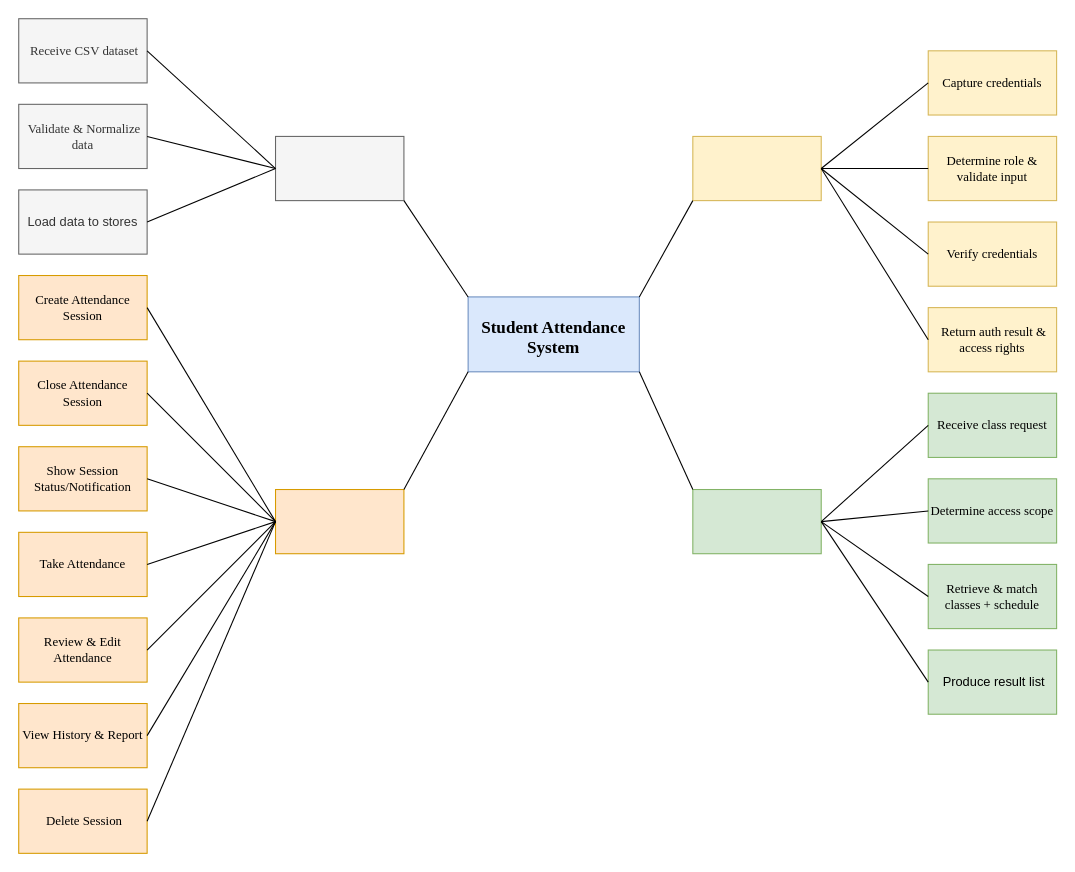
The diagram is 1075 pixels wide and 872 high, and some of its shapes have lost their labels. Each missing label, with the centre of its shape:
"Authenticate User" belongs at point 756,168.
"Import & Validate Initial Data" belongs at point 339,168.
"Manage Attendance" belongs at point 339,521.
"Manage Class Information" belongs at point 756,521.
